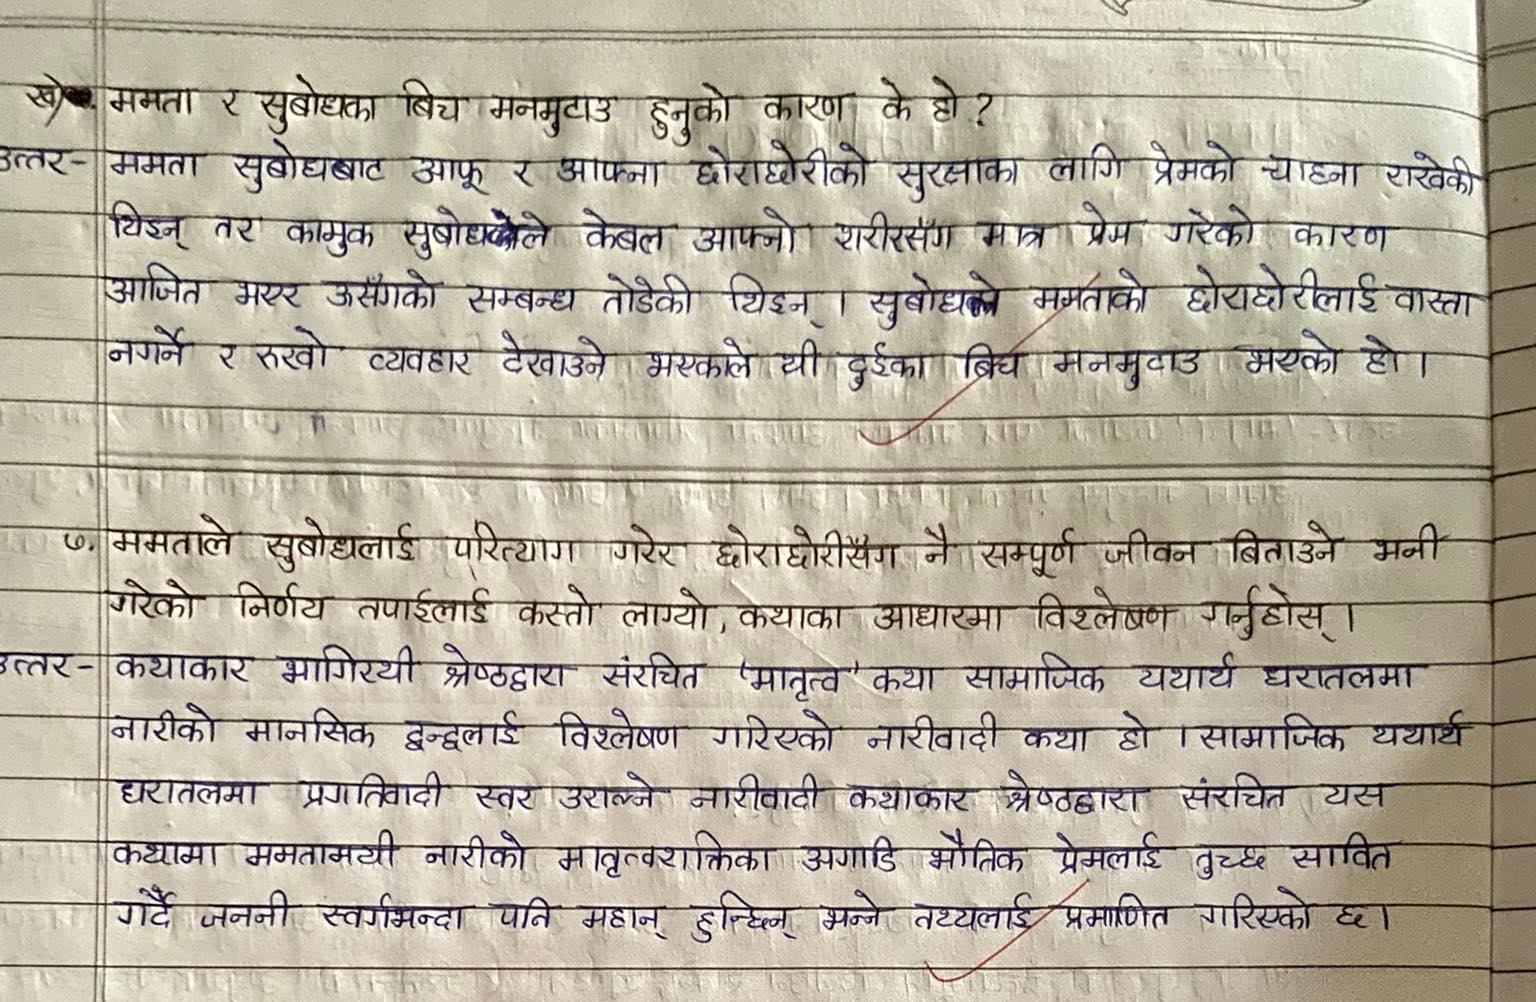text: (1178, 264, 1380, 320), (1189, 581, 1354, 649), (706, 516, 898, 574), (550, 830, 777, 875), (1046, 336, 1212, 397), (259, 511, 420, 572), (227, 141, 393, 194), (399, 202, 547, 260), (1025, 587, 1182, 642), (862, 271, 1009, 329), (476, 77, 617, 138), (257, 64, 380, 133), (692, 146, 870, 191), (238, 824, 400, 874), (1191, 709, 1351, 759), (296, 765, 452, 815), (101, 767, 269, 814), (1220, 511, 1351, 570), (1259, 650, 1425, 696), (315, 888, 471, 936), (891, 150, 1029, 204), (243, 701, 380, 755), (435, 646, 578, 697), (840, 769, 978, 822), (998, 772, 1149, 821), (1287, 825, 1420, 879), (909, 884, 1033, 942), (114, 637, 251, 689), (277, 643, 415, 693), (961, 649, 1113, 695), (105, 511, 241, 562), (826, 205, 953, 260), (356, 578, 491, 628), (396, 706, 528, 758), (861, 710, 1002, 758), (686, 889, 798, 949), (1386, 140, 1490, 205), (466, 269, 589, 324), (552, 710, 685, 760), (1196, 892, 1327, 942), (638, 74, 733, 141), (638, 335, 753, 390), (691, 204, 805, 259), (1027, 271, 1156, 319), (864, 594, 1006, 638), (491, 330, 607, 384), (1236, 324, 1340, 383), (1095, 516, 1205, 572), (835, 335, 935, 396), (556, 767, 669, 821), (1164, 766, 1293, 813), (708, 710, 833, 758), (976, 524, 1083, 580), (447, 519, 573, 566), (321, 266, 444, 315), (598, 265, 694, 326), (1142, 135, 1242, 193), (107, 700, 228, 747), (412, 832, 538, 877), (1360, 708, 1483, 753), (920, 830, 1029, 881), (1255, 147, 1373, 194), (1048, 828, 1164, 875), (100, 828, 232, 870), (717, 272, 819, 325), (102, 574, 212, 624), (1130, 650, 1243, 697), (691, 769, 816, 811), (99, 69, 199, 121), (1064, 893, 1179, 938), (1192, 830, 1277, 890), (358, 334, 470, 380), (743, 650, 847, 700), (260, 326, 341, 388), (99, 134, 205, 182), (592, 650, 711, 693), (195, 882, 290, 935), (620, 586, 717, 637), (543, 149, 665, 189), (231, 582, 338, 627), (575, 206, 669, 256), (104, 260, 205, 307), (752, 76, 855, 122), (800, 828, 903, 874), (509, 581, 600, 633), (1285, 215, 1408, 252), (1364, 517, 1458, 565), (1392, 272, 1479, 324), (103, 324, 190, 375), (730, 594, 847, 633), (395, 71, 469, 131), (582, 890, 671, 940), (973, 209, 1062, 257), (1163, 204, 1256, 250), (280, 208, 371, 255), (818, 887, 893, 943), (409, 143, 493, 193), (1043, 134, 1122, 186), (106, 198, 185, 250), (956, 339, 1032, 392), (862, 657, 949, 701), (227, 270, 311, 315), (484, 891, 562, 938), (105, 881, 178, 931), (924, 71, 978, 137), (469, 769, 543, 817), (1311, 774, 1402, 813), (1017, 712, 1092, 756), (606, 524, 675, 571), (1356, 329, 1413, 386), (1, 139, 76, 180), (1334, 883, 1388, 936), (1080, 200, 1136, 251), (912, 519, 959, 574), (1114, 706, 1156, 764), (212, 200, 261, 249), (208, 79, 252, 125), (780, 336, 817, 390), (26, 67, 65, 118), (878, 72, 912, 120), (502, 150, 537, 193), (208, 330, 241, 371)
